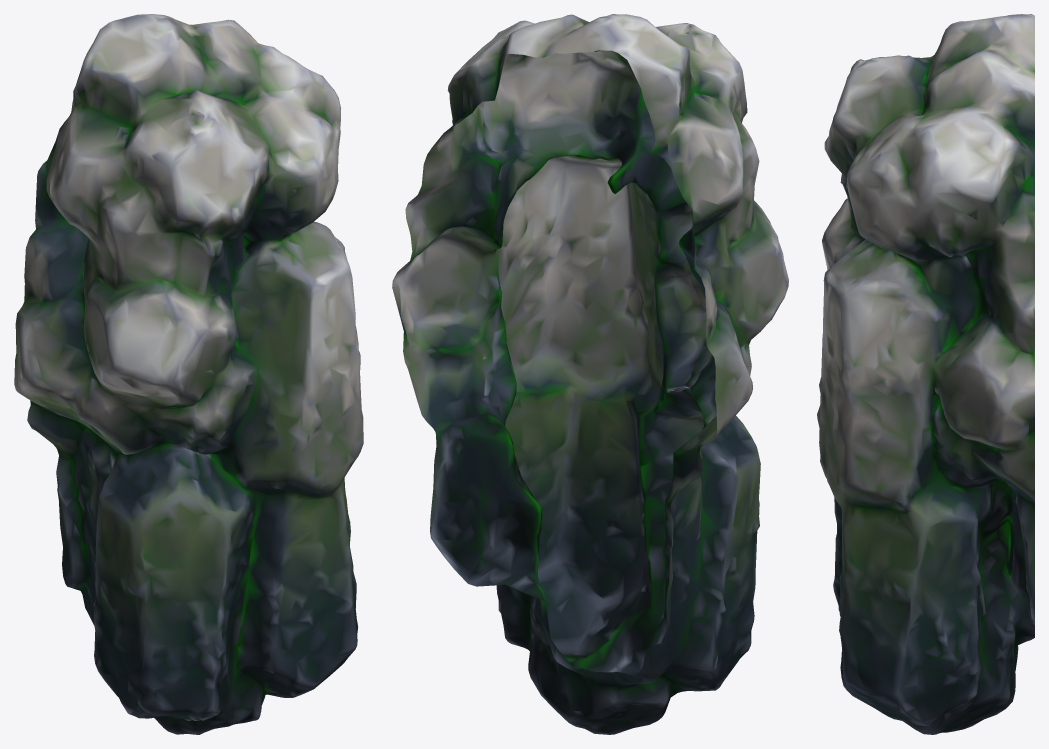
Rendered from M_Cliff_Rock_T2.fbx.
3 views of the same model, side by side, from view 1: azimuth 30°, elevation 25°; view 2: azimuth 150°, elevation 25°; view 3: azimuth 270°, elevation 25° (orthographic). The views are drawn at different scales.
Visible parts, largest first — view 1: M_Cliff_Rock_T2; view 2: M_Cliff_Rock_T2; view 3: M_Cliff_Rock_T2.
Part boxes in pixels (x1,y1,x2,y2): M_Cliff_Rock_T2: (14, 14, 363, 734); M_Cliff_Rock_T2: (392, 14, 788, 734); M_Cliff_Rock_T2: (817, 14, 1034, 734).
Size of the model in its own units: 12 by 24.54 by 6.94.
